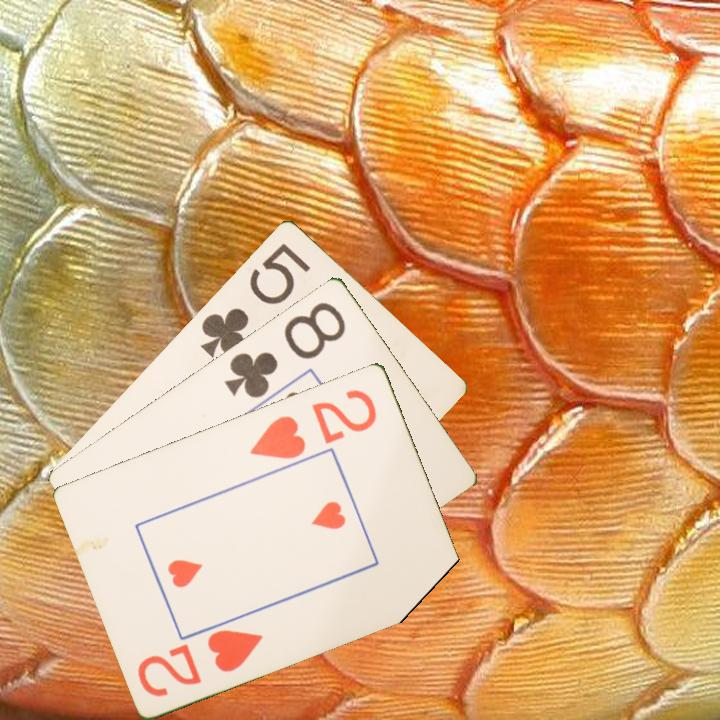2h: (246, 385, 380, 462), (134, 625, 266, 700)
5c: (196, 239, 314, 361)
8c: (220, 297, 349, 401)
